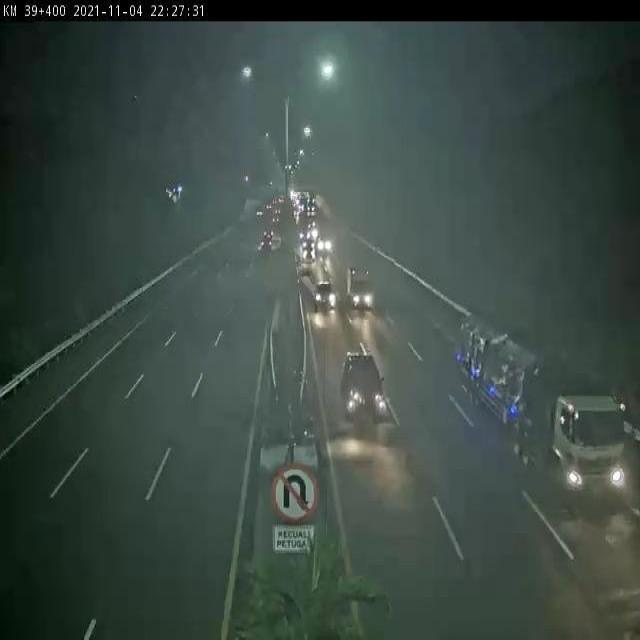car: (340, 345, 387, 419), (312, 276, 335, 312)
truck-s-: (343, 260, 374, 309)
truck-xl-: (459, 316, 630, 503)
